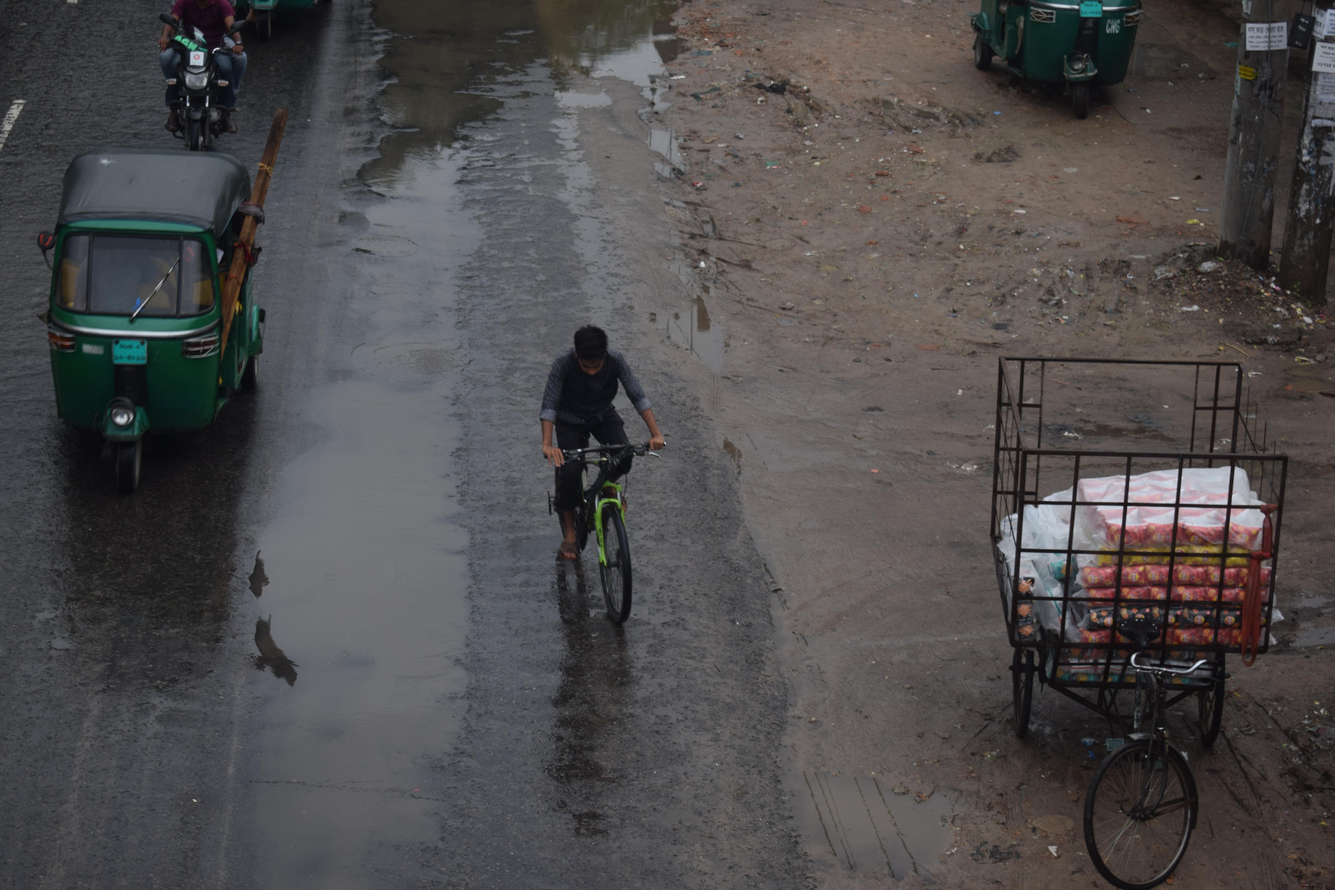Bike: (127, 0, 271, 157)
